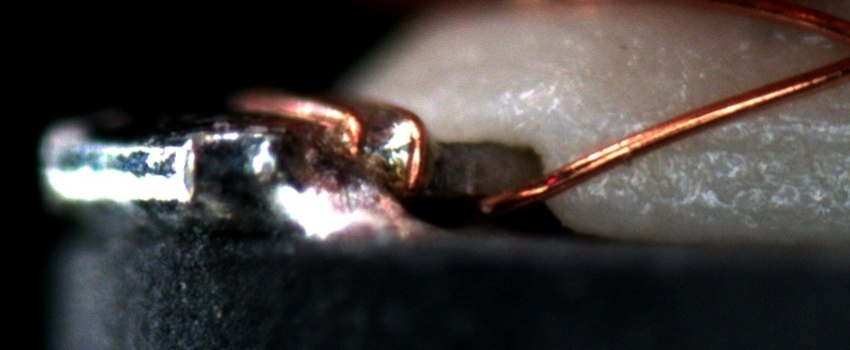DL: (682, 114, 849, 178)
TE: (226, 90, 433, 196)
